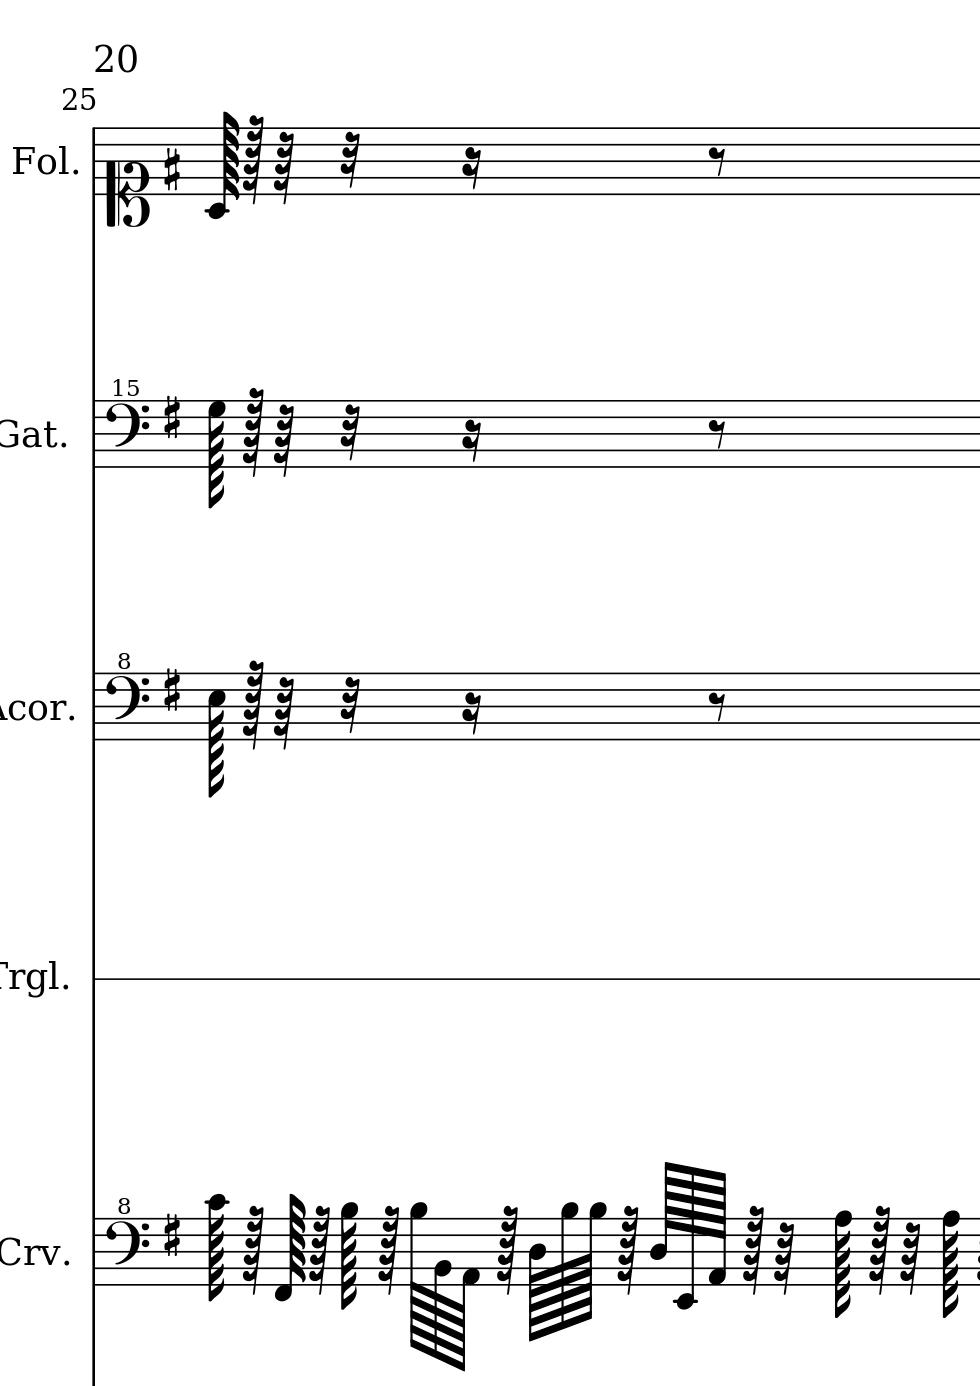0: (116, 41, 137, 75)
128_-1: (274, 1193, 307, 1303)
128_-2: (202, 110, 241, 220), (675, 1164, 699, 1311)
128_1: (453, 1217, 482, 1371), (708, 1169, 727, 1289)
128_10: (203, 1193, 230, 1302)
128_2: (430, 1217, 452, 1363)
128_4: (650, 1162, 673, 1286), (526, 1216, 546, 1343)
128_5: (207, 672, 225, 799)
128_7: (206, 399, 226, 510)
128_8: (834, 1210, 852, 1321), (940, 1207, 958, 1318)
128_9: (580, 1201, 607, 1323), (409, 1201, 428, 1355), (560, 1201, 579, 1329), (340, 1201, 358, 1311)
2: (92, 42, 115, 74), (60, 86, 78, 112)
5: (78, 85, 97, 113)
DHigh_Fclef: (98, 375, 150, 469)
High_Fclef: (103, 1193, 152, 1289), (102, 649, 150, 743)
Rests128: (242, 115, 264, 206), (242, 387, 264, 478), (241, 660, 263, 751), (242, 1205, 264, 1296), (308, 1206, 330, 1297), (377, 1205, 399, 1296), (495, 1205, 518, 1296), (870, 1205, 892, 1296), (617, 1206, 638, 1297), (743, 1205, 765, 1296)
Rests16: (460, 418, 482, 464), (460, 691, 482, 738), (460, 146, 482, 192)
Rests32: (337, 403, 361, 464), (337, 676, 361, 736), (338, 130, 361, 191)
Rests64: (273, 403, 294, 477), (774, 1221, 795, 1295), (274, 131, 295, 205), (272, 674, 293, 748), (902, 1222, 922, 1296)
Rests8: (706, 417, 729, 450), (706, 690, 729, 723), (706, 144, 728, 177)
Sharp: (158, 392, 183, 443), (158, 1211, 183, 1261), (159, 665, 182, 715), (160, 145, 182, 195)
Single_barline: (86, 128, 102, 195), (87, 1220, 102, 1285), (87, 401, 101, 467), (87, 674, 101, 740)
Soprano_Cclef: (103, 123, 152, 229)
